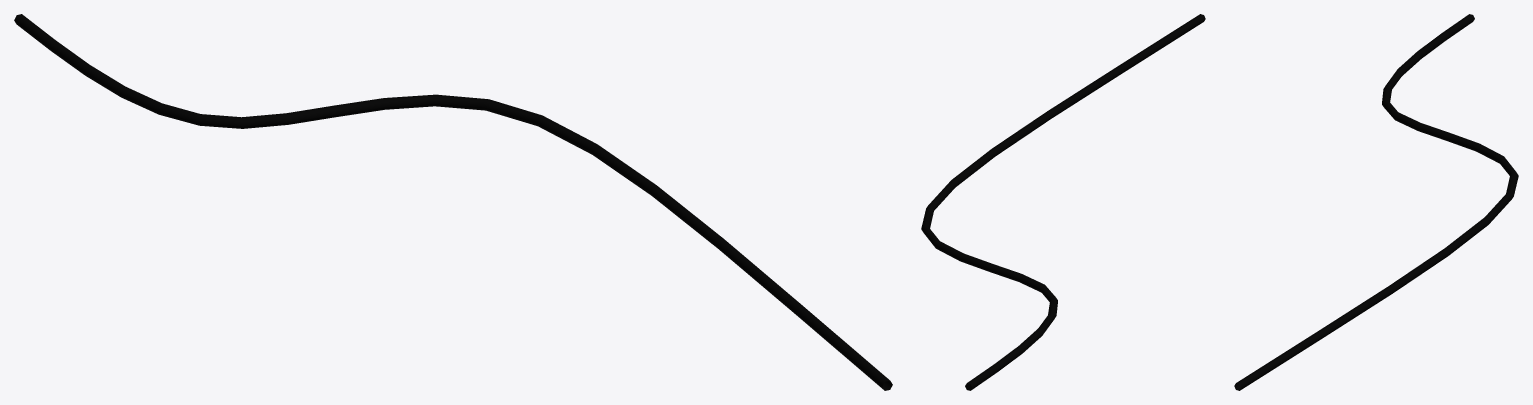
Rendered from SM_Stage_Final_Wire_botton_08.fbx.
3 renders of one model, left to right at view 1: azimuth 30°, elevation 25°; view 2: azimuth 150°, elevation 25°; view 3: azimuth 330°, elevation 25°, orthographic. The views are drawn at different scales.
Parts seen in each view (by area): view 1: SM_Stage_Final_Wire_botton_08; view 2: SM_Stage_Final_Wire_botton_08; view 3: SM_Stage_Final_Wire_botton_08.
Part boxes in pixels (x1=…): SM_Stage_Final_Wire_botton_08: x1=14, y1=14, x2=892, y2=390; SM_Stage_Final_Wire_botton_08: x1=921, y1=14, x2=1205, y2=390; SM_Stage_Final_Wire_botton_08: x1=1234, y1=14, x2=1518, y2=390.
Size of the model in its own units: 76.13 by 2.17 by 250.
1 material, 1 textured.
